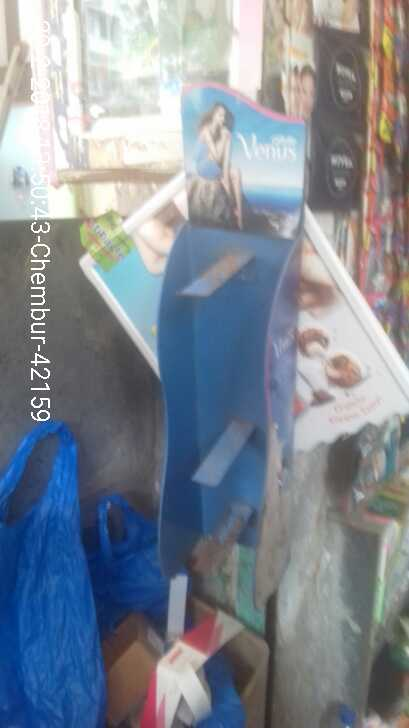reject: (177, 324, 289, 433)
